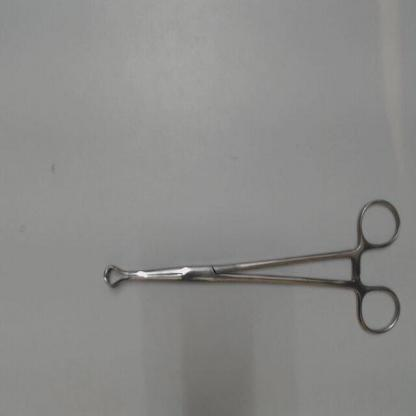8 Babcock Tissue Forceps: (94, 190, 404, 345)
